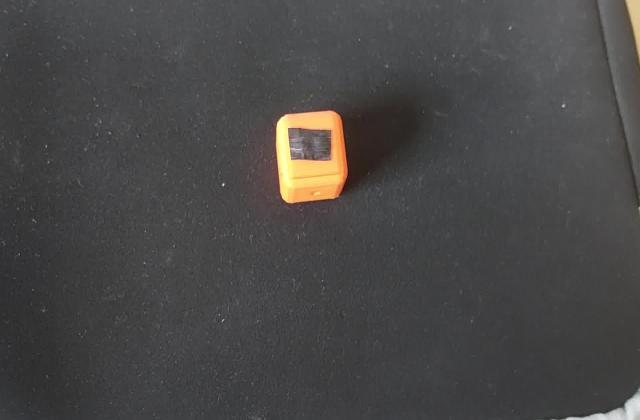black: (284, 124, 336, 165)
sticker: (269, 108, 350, 210)
